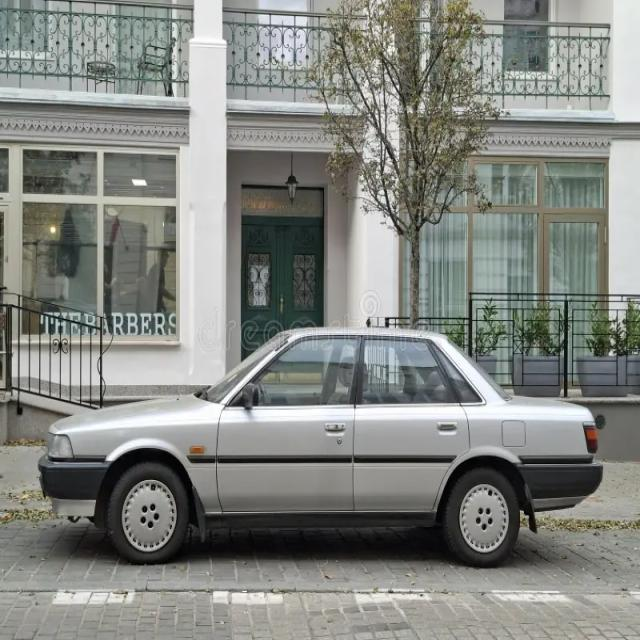car: (31, 293, 619, 555)
